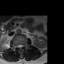CCS_normal: (19, 44, 21, 52)
LFS_normal: (23, 43, 25, 48)
LLS_normal: (21, 43, 23, 49)
RFS_stenosis: (15, 43, 17, 49)
RLS_normal: (17, 43, 19, 49)
